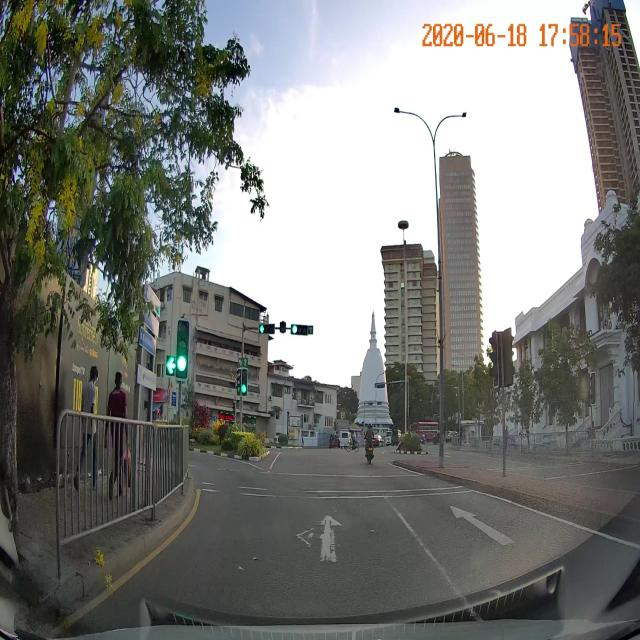forward_lft: (134, 497, 464, 594)
